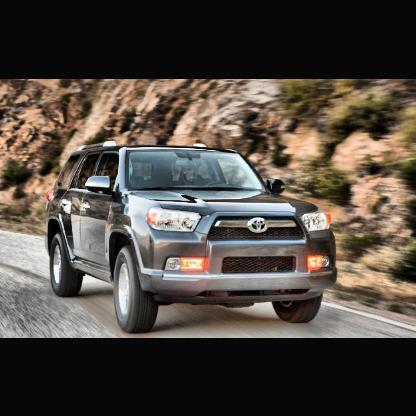Toyota 4Runner SUV 2012: (45, 139, 339, 335)
